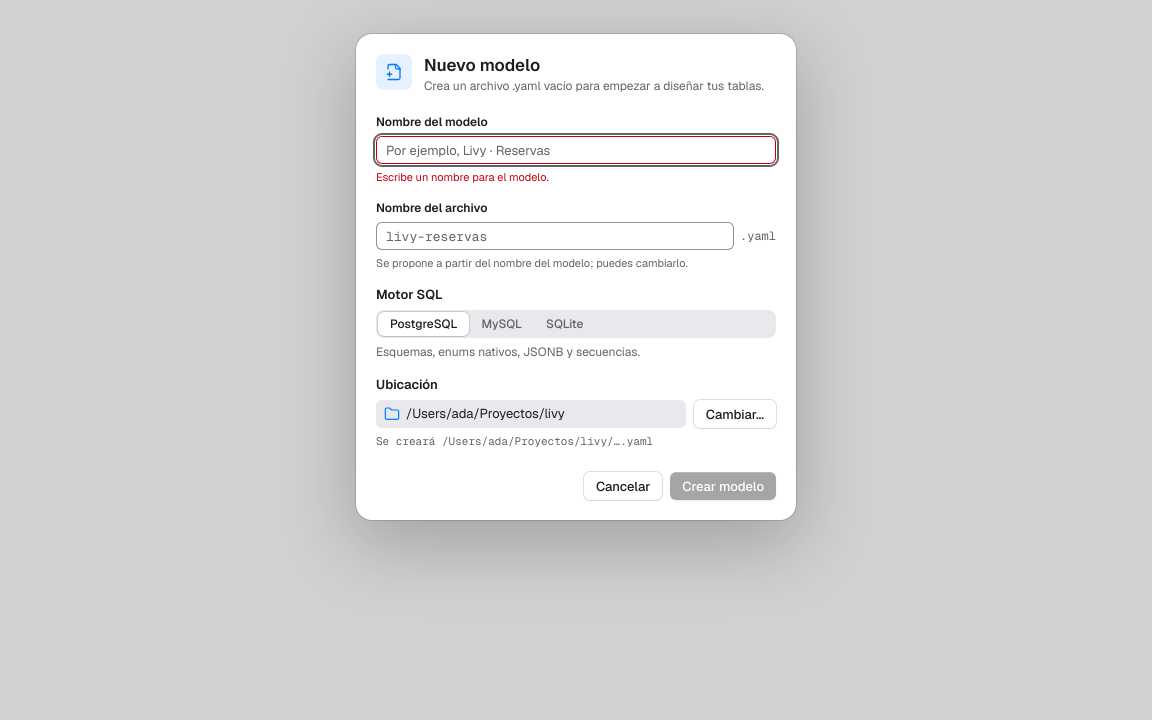
Test: Nuevo modelo (FR-002 a FR-006) › con un nombre sin letras ni números pide al menos una y no deja crear
In the field labelled "Nombre del modelo": (576, 150) [384,136,768,164], type "··· ---"
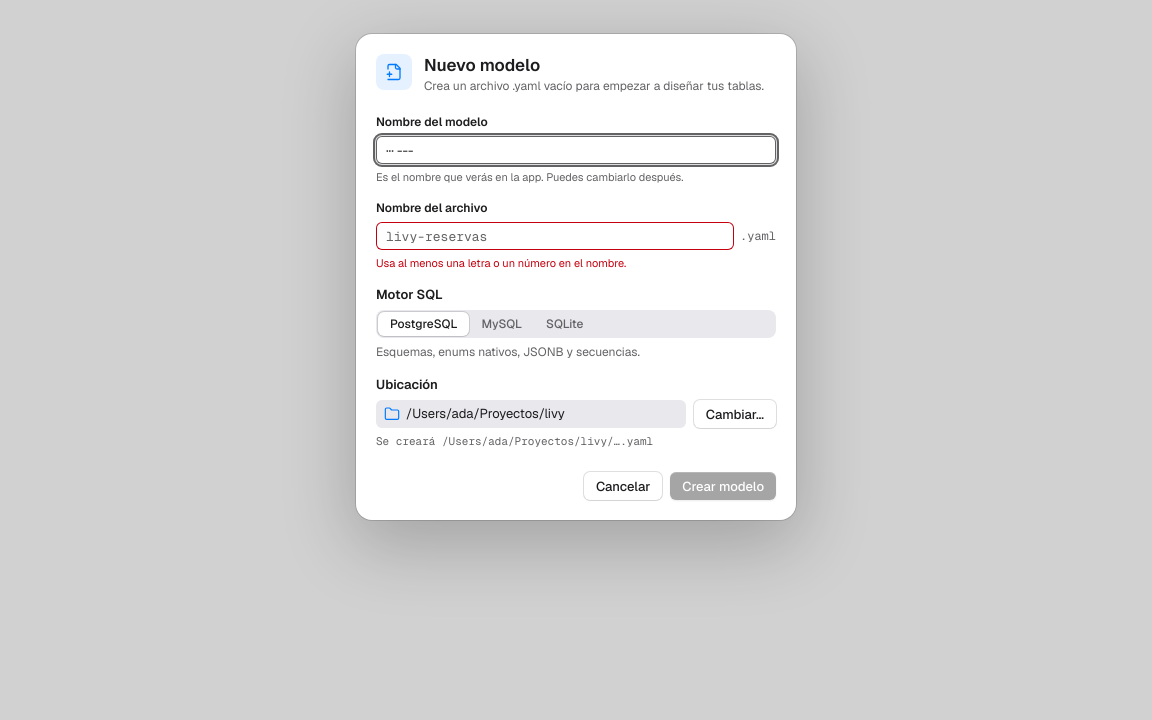
Expected: the button "Crear modelo" is disabled, [670,472,776,500]
Expected: the message reads "Usa al menos una letra o un número en el nombre.", [376,256,626,270]
